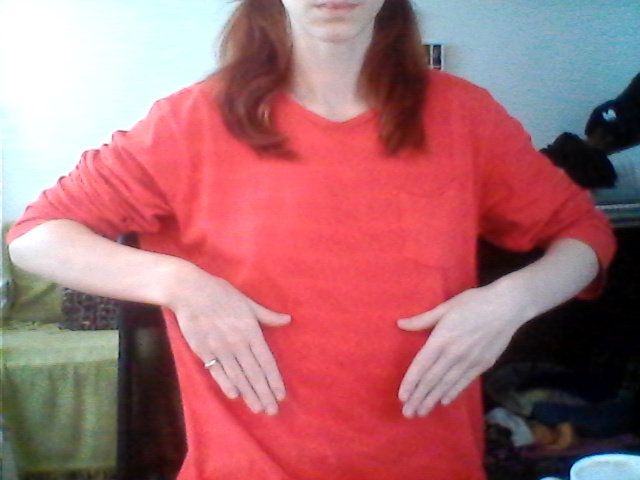zena: (142, 244, 509, 431)
